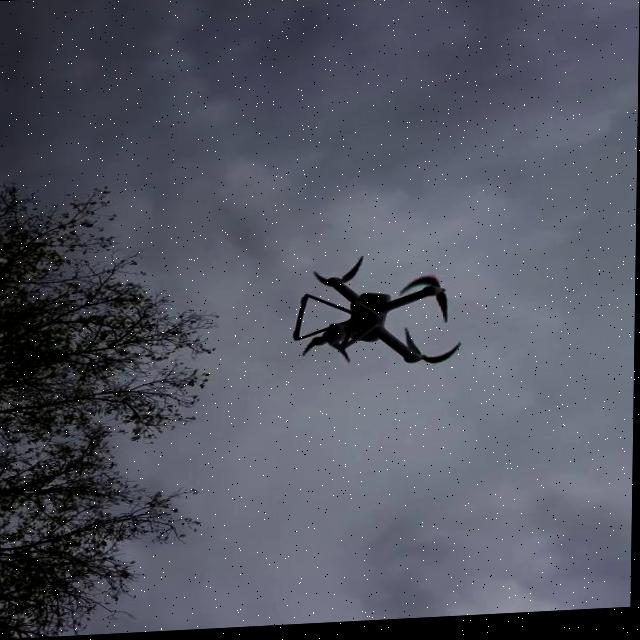drone: (284, 253, 472, 380)
